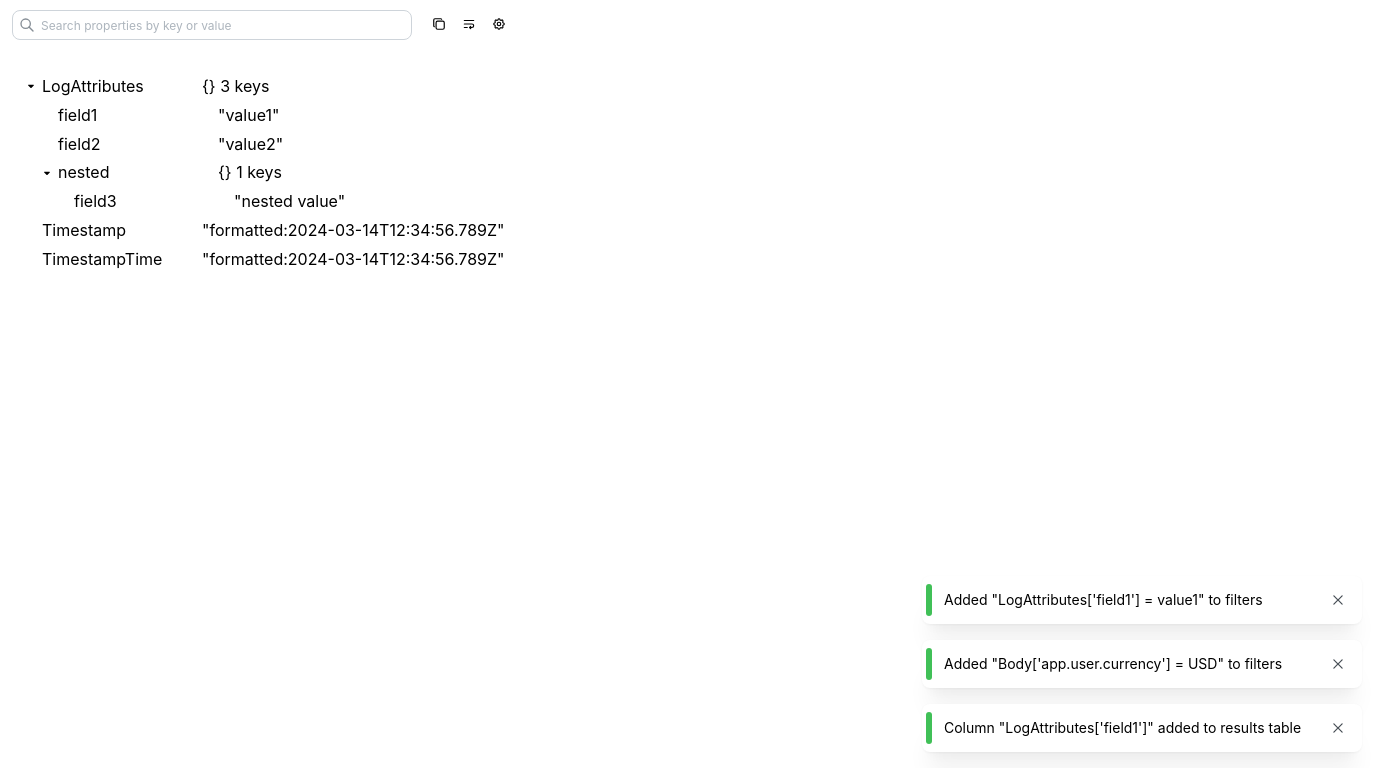
Scenario: DBRowJsonViewer › hides the materialized and alias columns option unless asked to show it
Step 1. Click the 3rd button → click(499, 25), box [492,13,506,37]
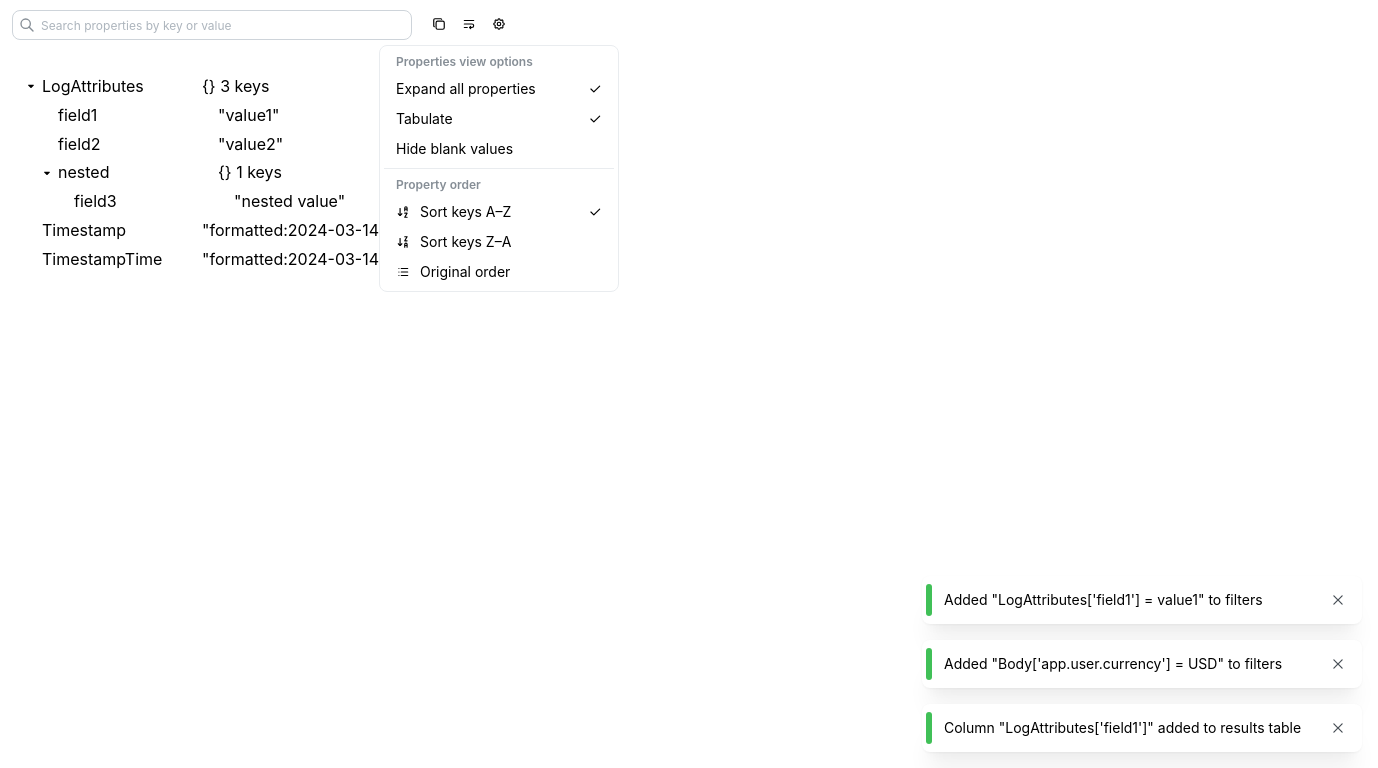
expect the text "Hide blank values" is shown: met, box [396,140,513,157]
